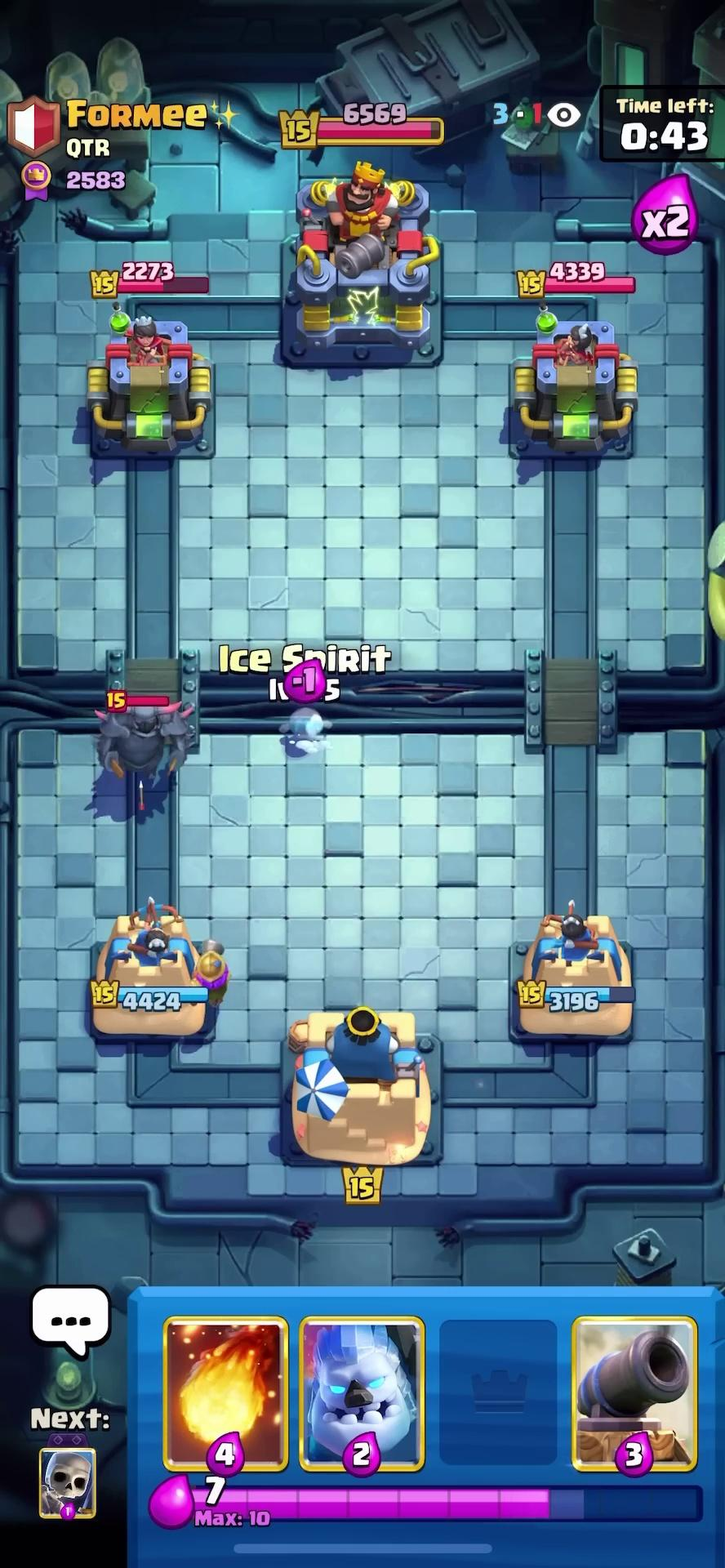musketeer: (178, 927, 247, 1007)
